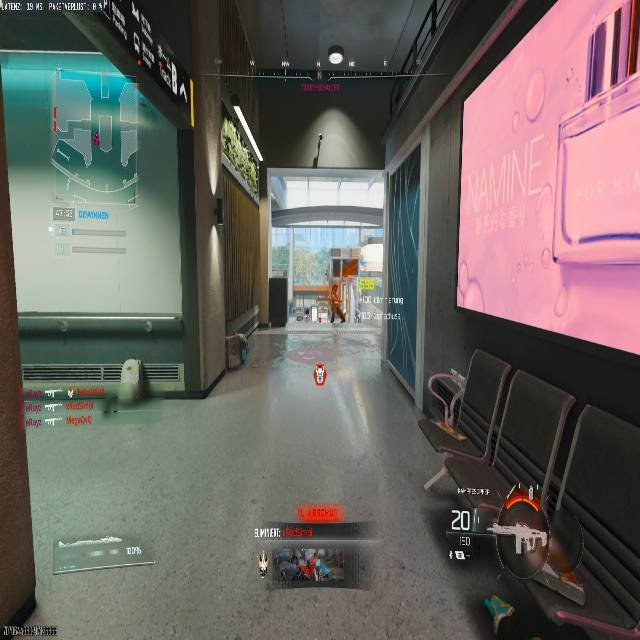player: (231, 311, 254, 371)
